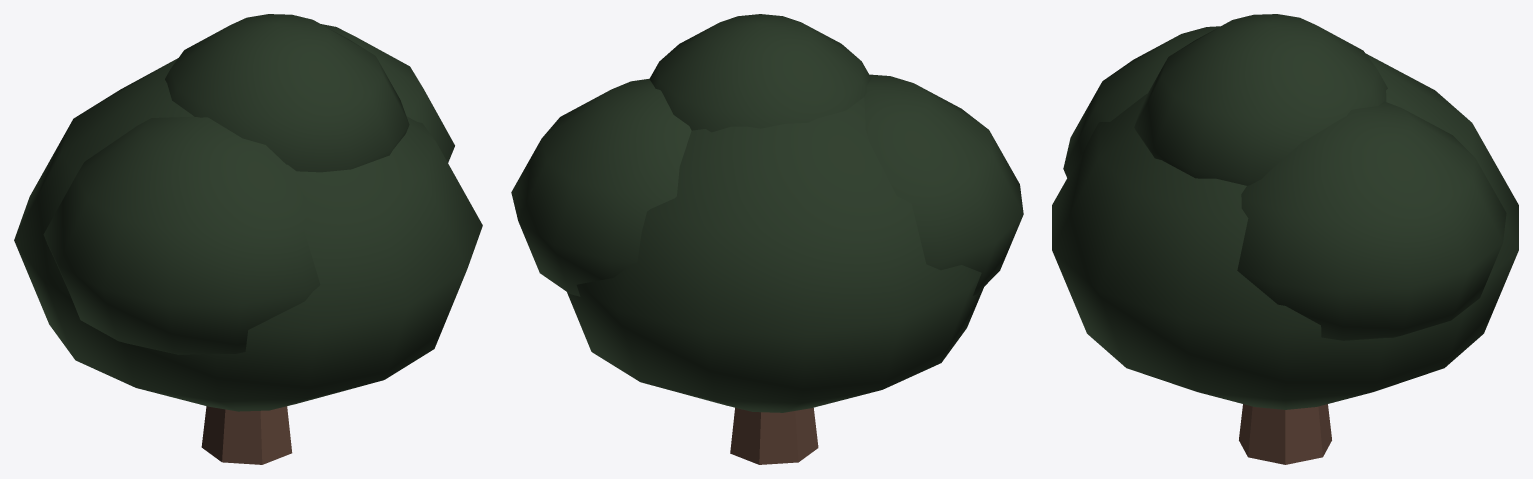
File: context.church.yard_yew.glb
3 renders of one model, left to right at view 1: azimuth 30°, elevation 25°; view 2: azimuth 150°, elevation 25°; view 3: azimuth 270°, elevation 25°, orthographic. The views are drawn at different scales.
Parts seen in each view (by area): view 1: main__timber_232, main__timber_643; view 2: main__timber_232, main__timber_643; view 3: main__timber_232, main__timber_643.
Part boxes in pixels (x1,y1,x2,y2): main__timber_232: [14, 14, 482, 411]; main__timber_643: [201, 406, 292, 464]; main__timber_232: [511, 14, 1023, 412]; main__timber_643: [730, 407, 818, 464]; main__timber_232: [1052, 14, 1518, 409]; main__timber_643: [1239, 404, 1331, 464].
Size of the model in its own units: 6.29 by 5.95 by 5.85.
